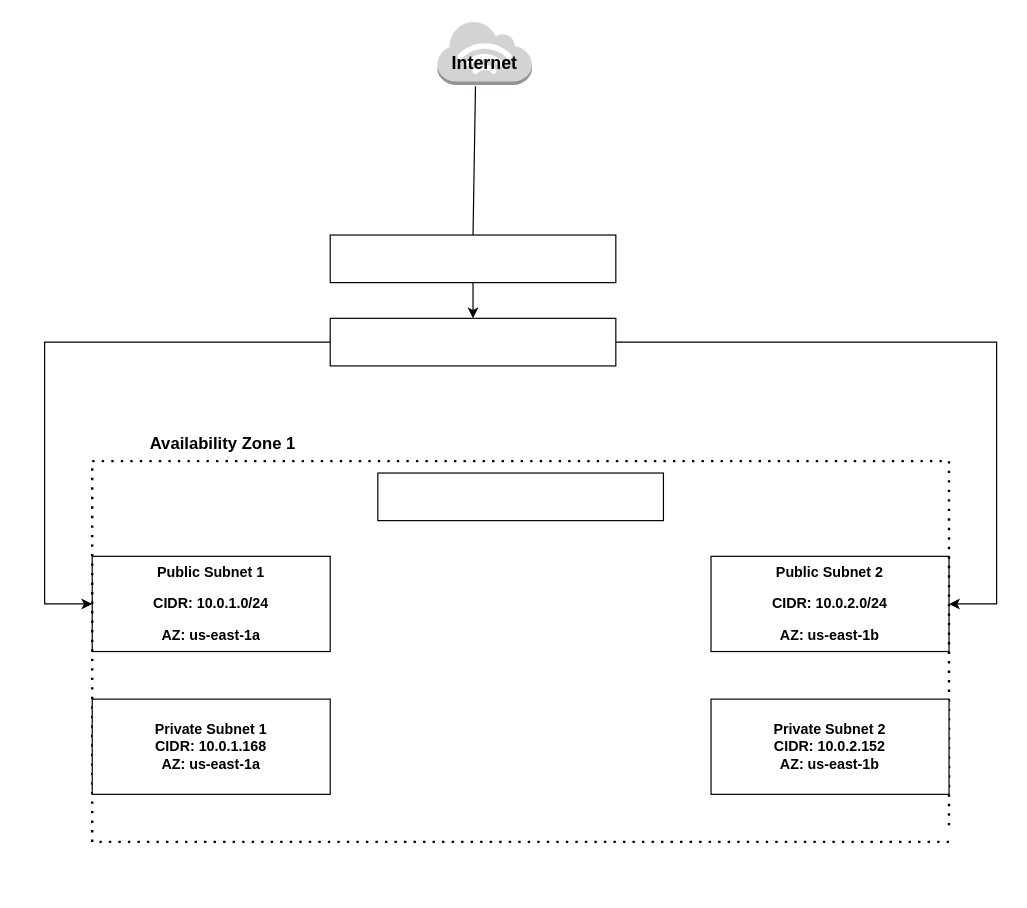
Image size: 1027x908. Some labels were removed from this diagram. Here are the shapes that lost their labels. From the top down, the centre of each, then its label:
(x=472, y=258): ROUTE TABLE 0.0.0.0/0 → IGW
(x=472, y=341): INTERNET GATEWAY (IGW)
(x=520, y=496): VPC CIDR 10.0.0.0/16
